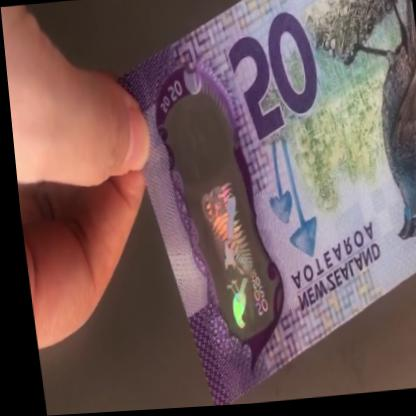50B: (180, 117, 265, 337)
